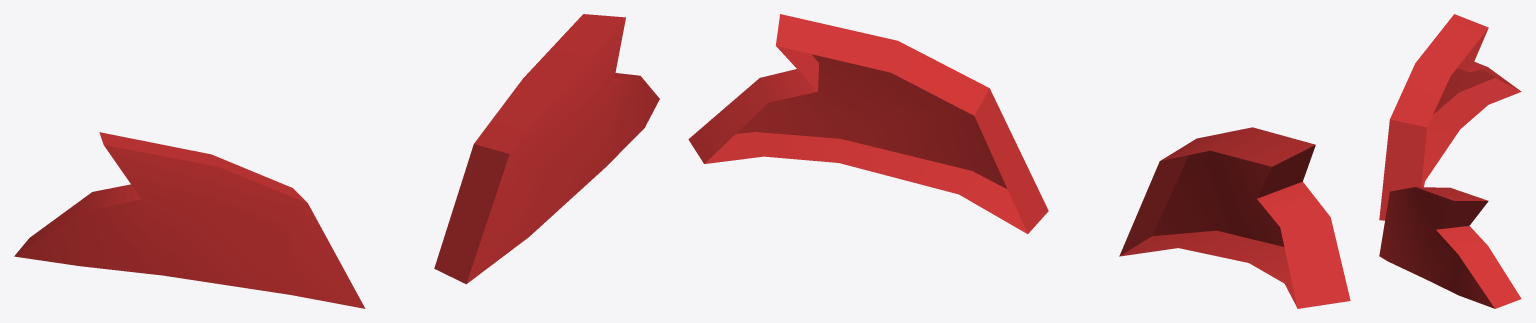
File: Brow_Red_6.fbx
3 renders of one model, left to right at view 1: azimuth 30°, elevation 25°; view 2: azimuth 150°, elevation 25°; view 3: azimuth 270°, elevation 25°, orthographic. The views are drawn at different scales.
Visible parts, largest first — view 1: Brow_Red_6; view 2: Brow_Red_6; view 3: Brow_Red_6.
Boxes of the visible parts, x1,y1,x2,y2 form: Brow_Red_6: (14,14,659,308); Brow_Red_6: (688,14,1350,308); Brow_Red_6: (1379,14,1521,308).
Bounding box in the file's own units: 40.86 × 10.89 × 10.63.
